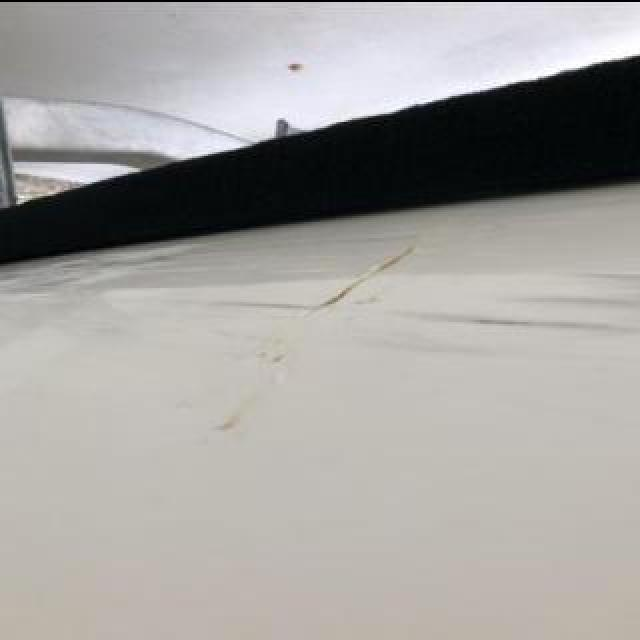crack: (280, 232, 432, 328)
